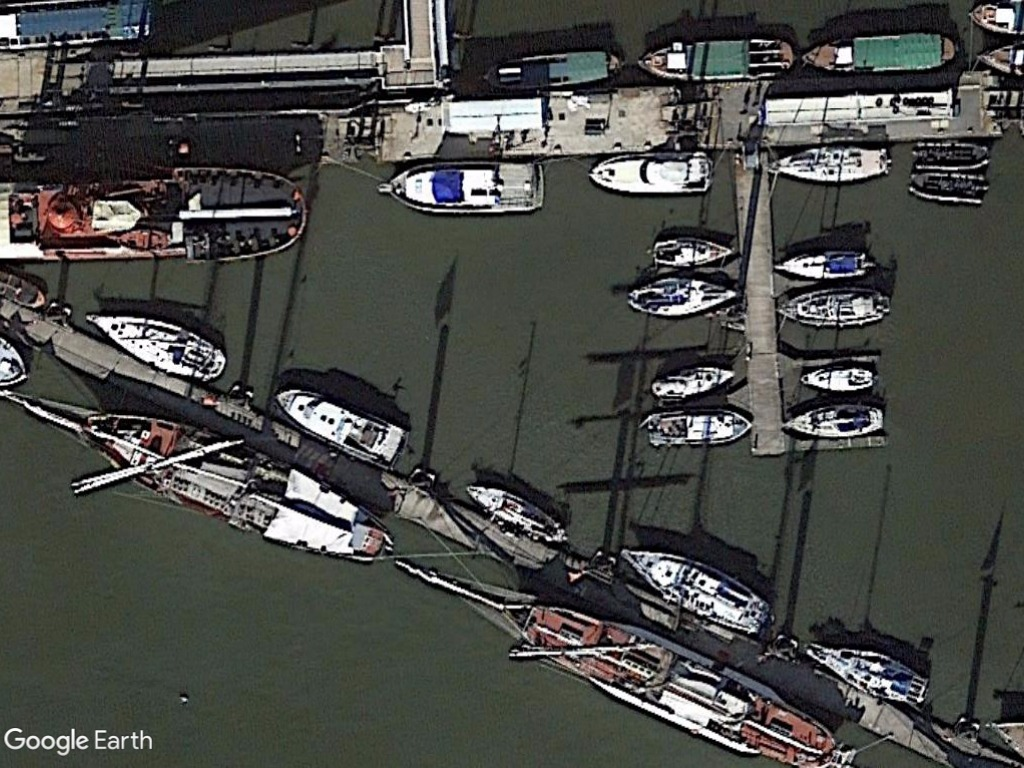boat: (494, 589, 847, 768), (79, 402, 399, 572), (618, 542, 772, 640), (267, 384, 411, 470), (81, 305, 228, 387), (368, 155, 548, 218), (800, 633, 932, 713), (632, 31, 799, 85), (795, 31, 966, 77), (581, 146, 718, 200), (478, 46, 626, 95), (460, 480, 568, 547), (775, 281, 893, 335), (768, 142, 892, 189), (625, 270, 740, 320), (641, 403, 751, 449), (781, 399, 886, 447), (644, 359, 744, 405), (770, 241, 876, 284), (645, 232, 735, 269), (794, 362, 879, 396)
